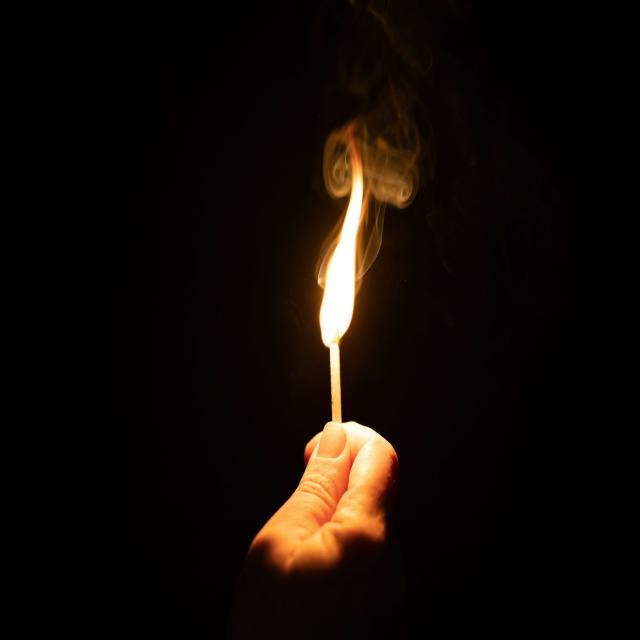fire: (320, 126, 364, 347)
